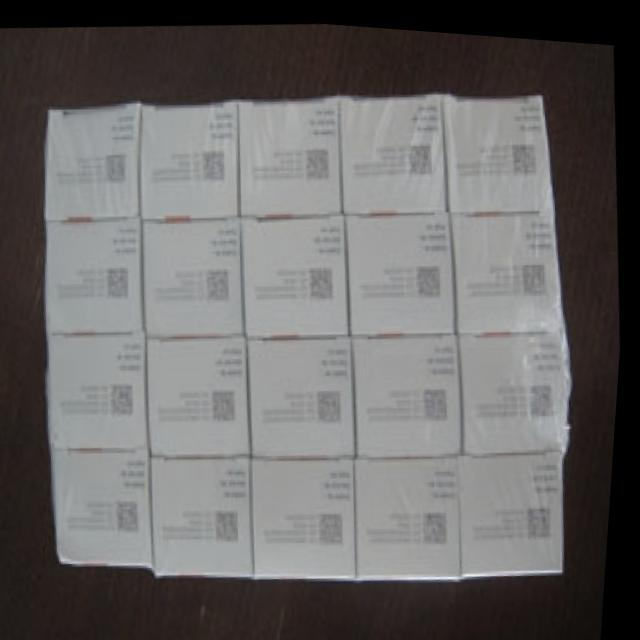datamatrix: (216, 501, 253, 547), (526, 371, 563, 415), (425, 501, 461, 546), (414, 252, 450, 297), (423, 377, 460, 420), (317, 378, 352, 423), (319, 504, 354, 546), (521, 251, 555, 294), (530, 495, 563, 538), (509, 128, 542, 171), (204, 261, 237, 303), (302, 137, 335, 179), (212, 379, 245, 420), (112, 379, 145, 419), (404, 134, 437, 174), (200, 143, 231, 185), (107, 259, 138, 300), (310, 260, 341, 300), (119, 496, 150, 534), (103, 148, 132, 186)
